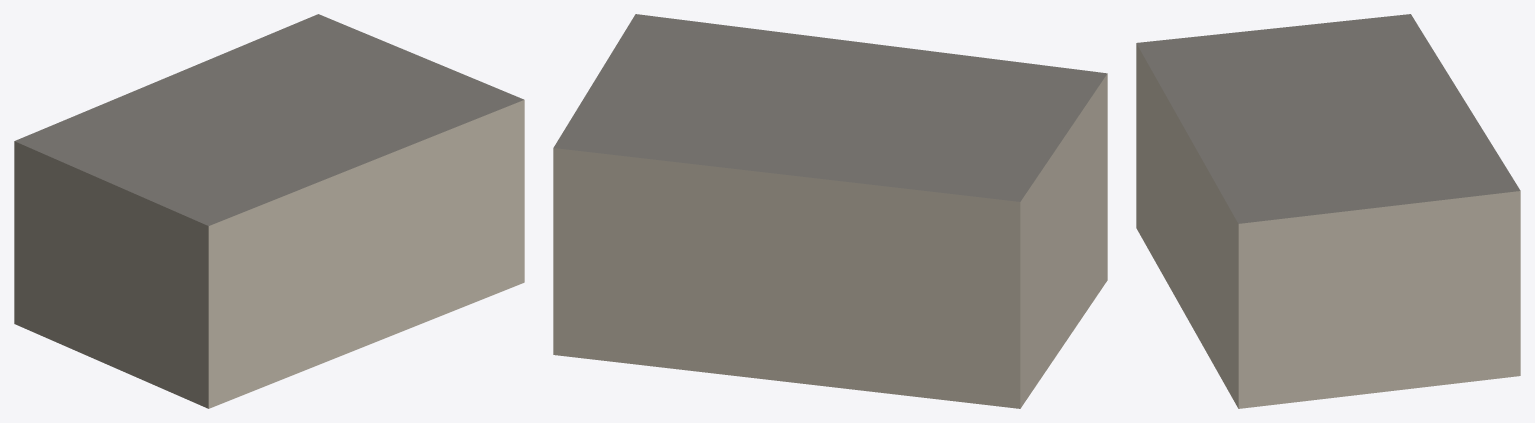
3 renders of one model, left to right at view 1: azimuth 30°, elevation 25°; view 2: azimuth 150°, elevation 25°; view 3: azimuth 270°, elevation 25°, orthographic. The views are drawn at different scales.
Parts seen in each view (by area): view 1: HP-w1216207220; view 2: HP-w1216207220; view 3: HP-w1216207220.
Part boxes in pixels (bbox=[...]): HP-w1216207220: bbox=[14, 14, 524, 408]; HP-w1216207220: bbox=[553, 14, 1107, 408]; HP-w1216207220: bbox=[1136, 14, 1520, 408].
Size of the model in its own units: 43.79 by 18 by 33.89.
